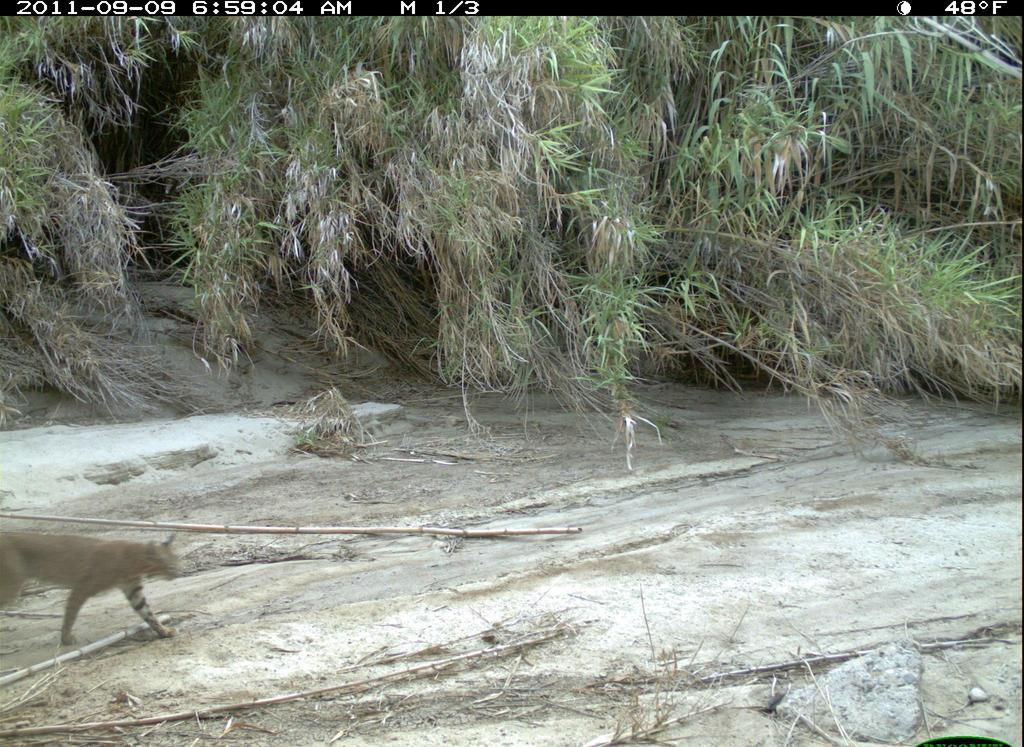bobcat: (2, 524, 196, 665)
